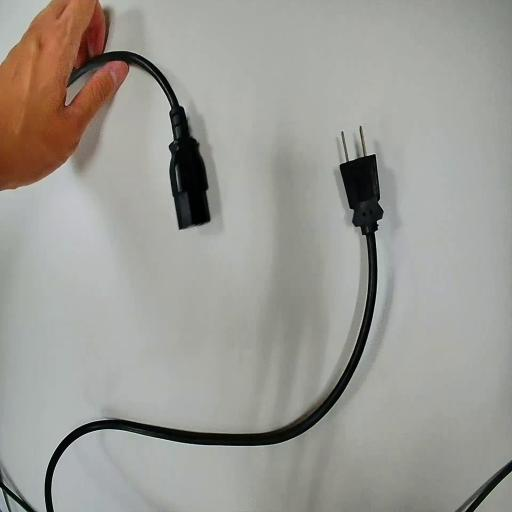wire: (45, 155, 381, 511), (68, 27, 209, 227)
